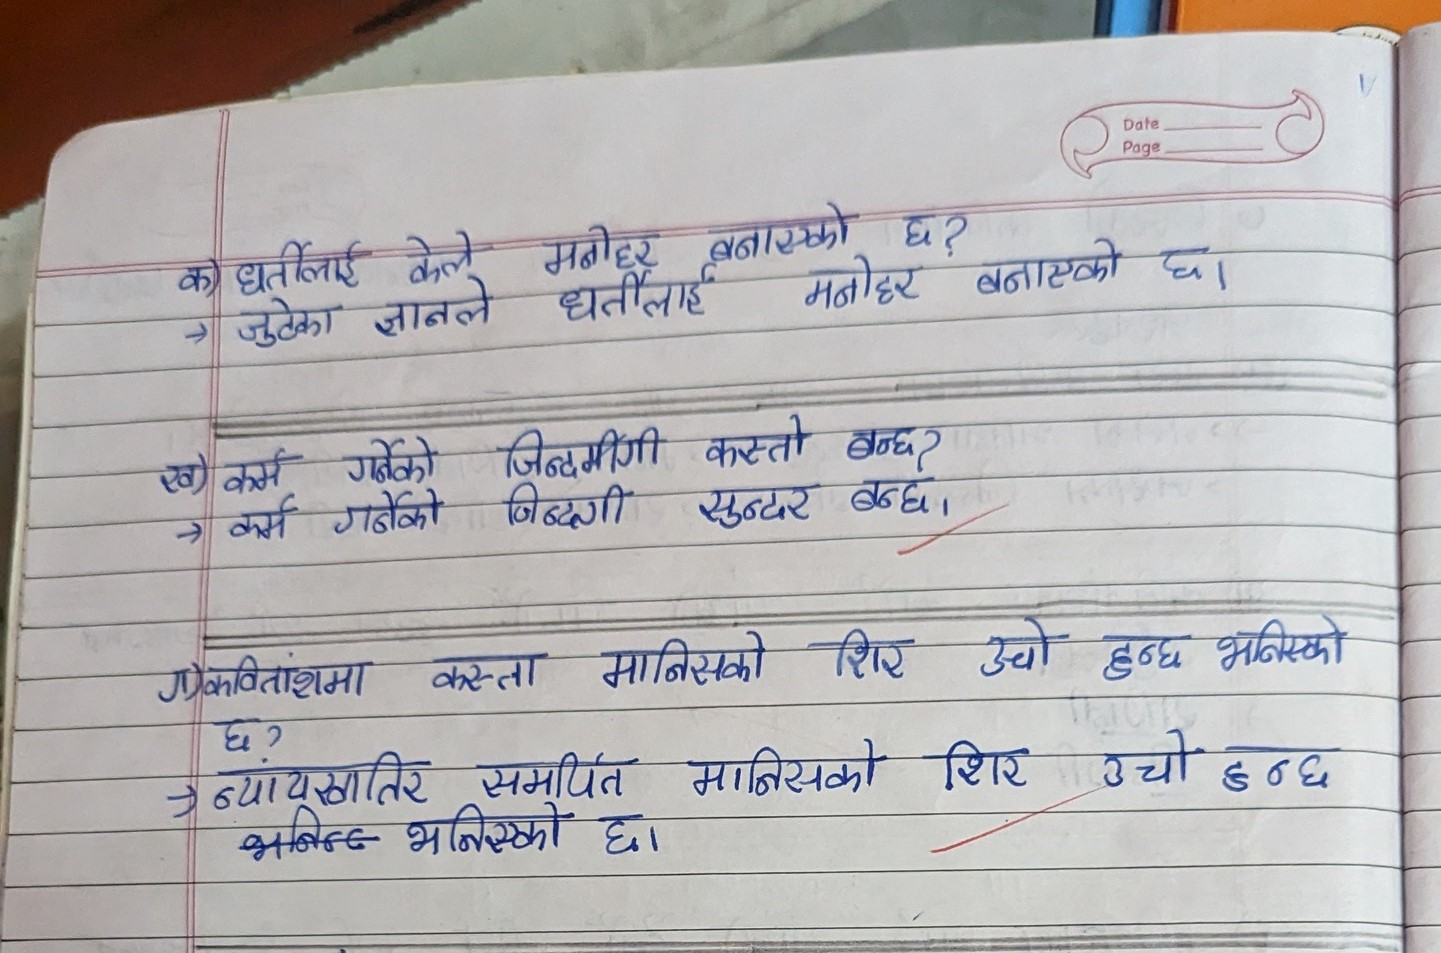text: (583, 609, 777, 696), (556, 265, 738, 335), (206, 752, 430, 806), (686, 740, 889, 799), (967, 236, 1130, 307), (491, 423, 668, 478), (692, 198, 847, 260), (469, 746, 637, 801), (406, 801, 564, 859), (202, 653, 369, 704), (229, 233, 361, 295), (530, 212, 660, 272), (808, 619, 919, 689), (500, 480, 633, 537), (1213, 614, 1354, 668), (1079, 728, 1199, 791), (1213, 735, 1341, 793), (376, 287, 497, 344), (705, 409, 812, 472), (974, 619, 1079, 683), (332, 485, 445, 544), (694, 478, 815, 531), (802, 257, 920, 311), (387, 217, 477, 283), (338, 431, 439, 489), (847, 473, 955, 526), (227, 299, 332, 350), (421, 649, 544, 691), (918, 748, 1037, 790), (1096, 629, 1194, 679), (1151, 231, 1225, 294), (221, 439, 294, 498), (223, 499, 303, 545), (835, 427, 929, 465), (596, 806, 649, 864), (152, 450, 206, 499), (154, 652, 195, 710), (175, 246, 220, 297), (210, 710, 262, 752), (902, 203, 939, 248)
